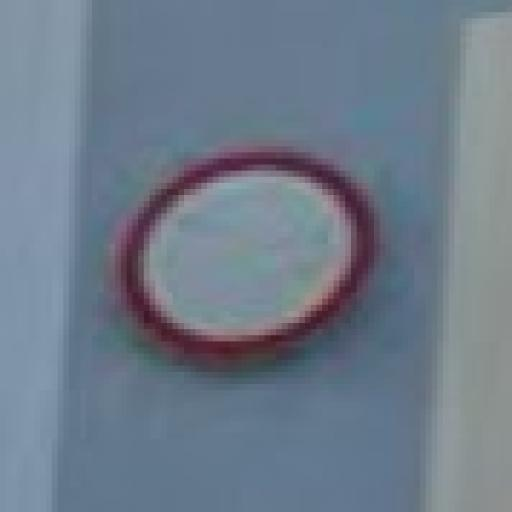traffic_sign: (116, 147, 375, 361)
